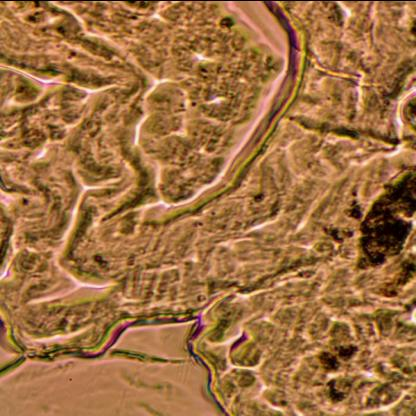Normal: (0, 0, 416, 358), (180, 0, 416, 416)
